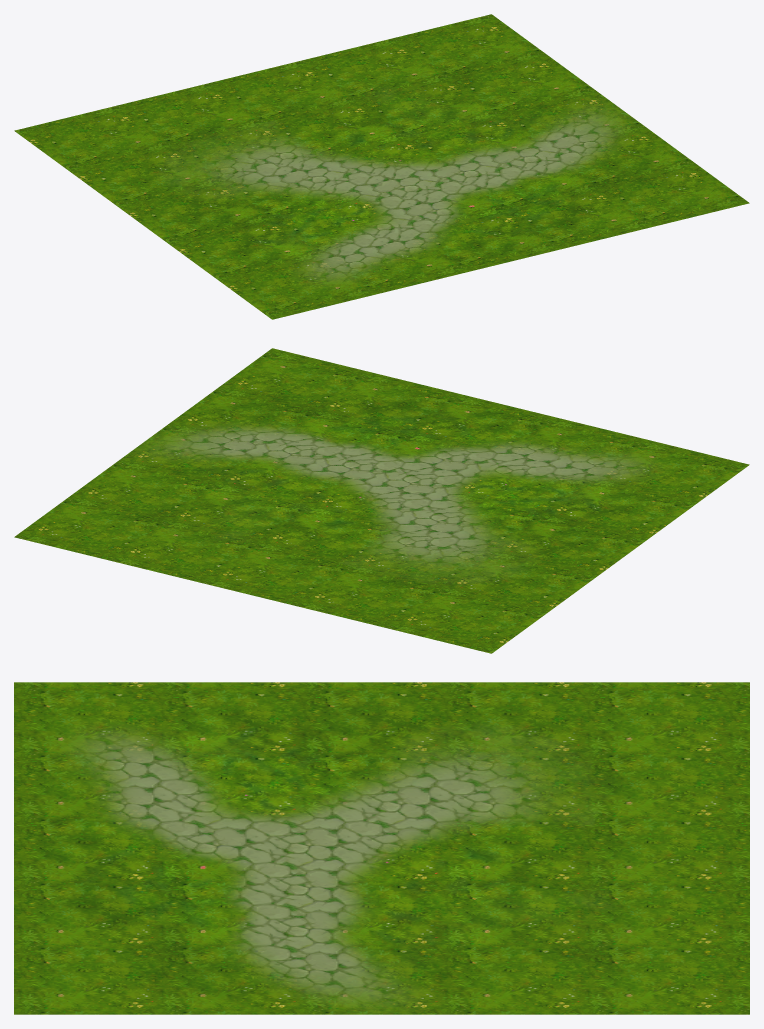
Rendered from beijunxiudaoyuan_caodi_01.FBX.
3 views of the same model, one above another, from view 1: azimuth 30°, elevation 25°; view 2: azimuth 150°, elevation 25°; view 3: azimuth 270°, elevation 25° (orthographic). The views are drawn at different scales.
Visible parts, largest first — view 1: Plane01; view 2: Plane01; view 3: Plane01.
Part boxes in pixels (x1,y1,x2,y2): Plane01: [14, 14, 749, 319]; Plane01: [14, 348, 749, 653]; Plane01: [14, 682, 749, 1014].
Bounding box in the file's own units: 2491999 × 6.61e-10 × 2333764.
